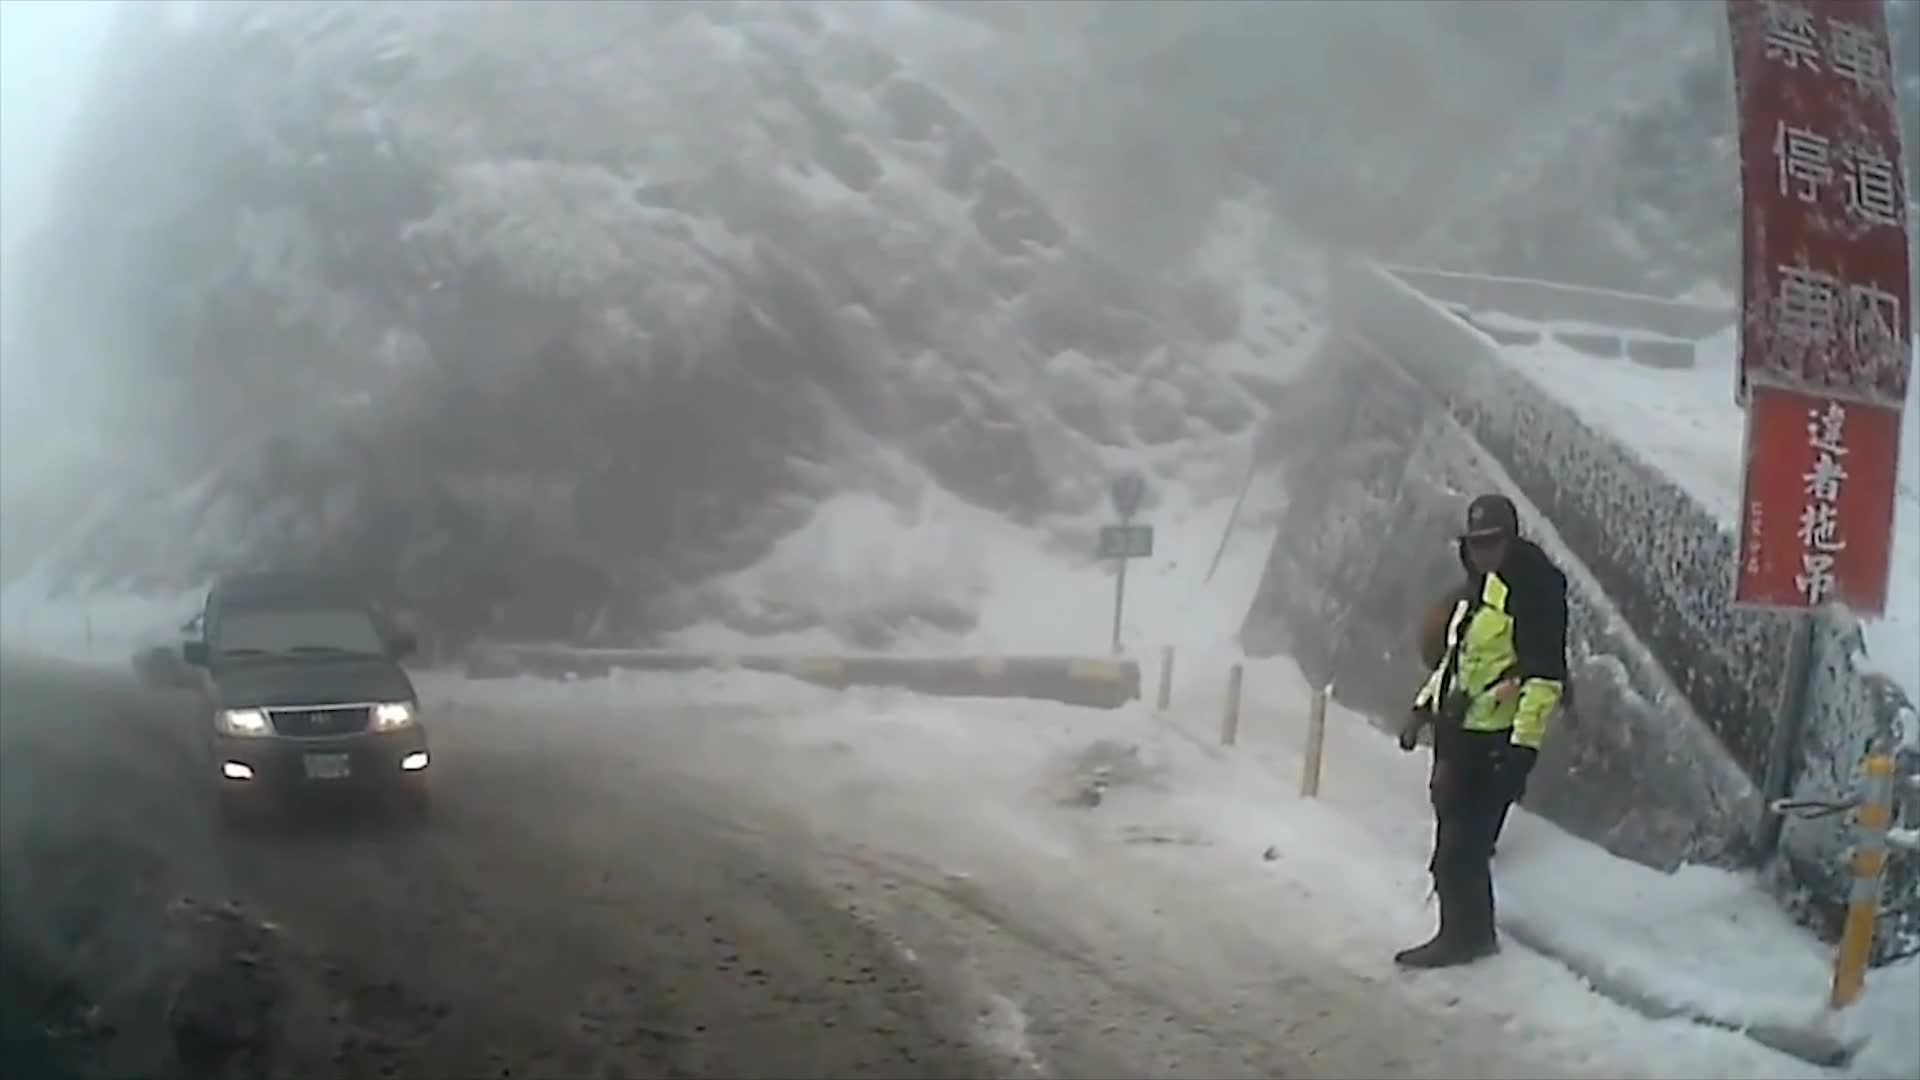pedestrian: (1394, 498, 1575, 976)
vehicle: (182, 571, 433, 830)
